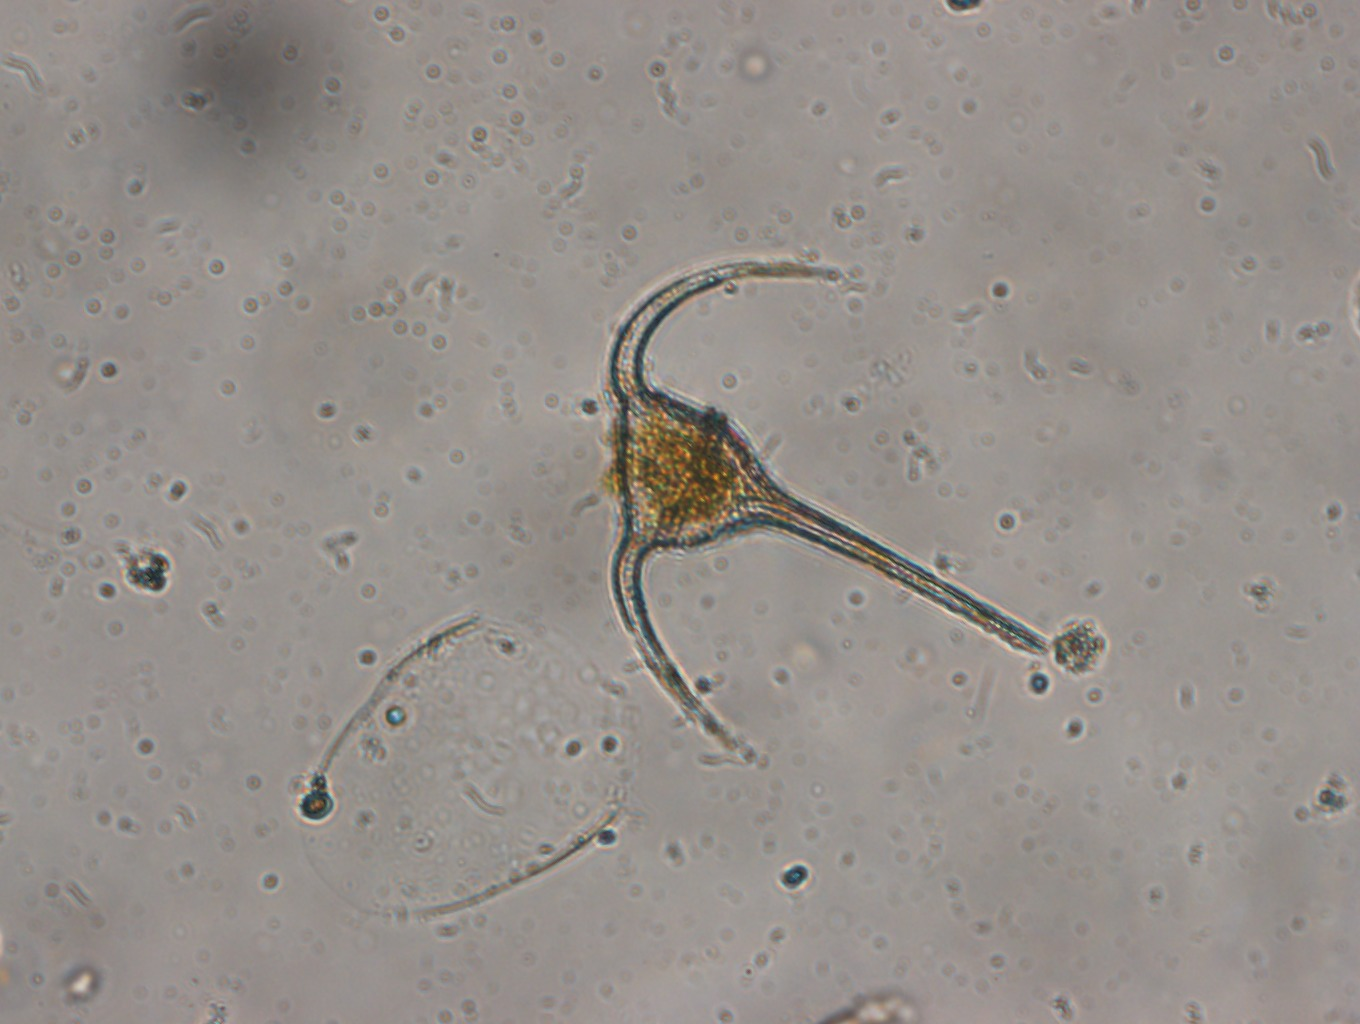ceratium trichoceros: (598, 229, 1056, 743)
